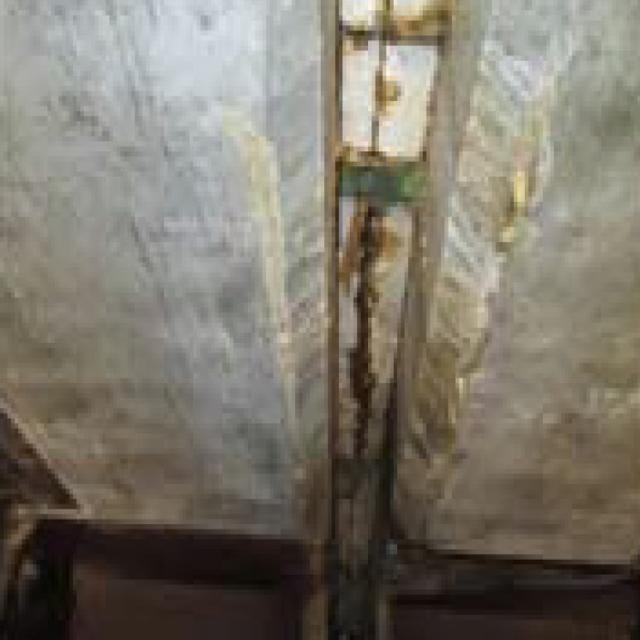freelime: (296, 3, 447, 606)
